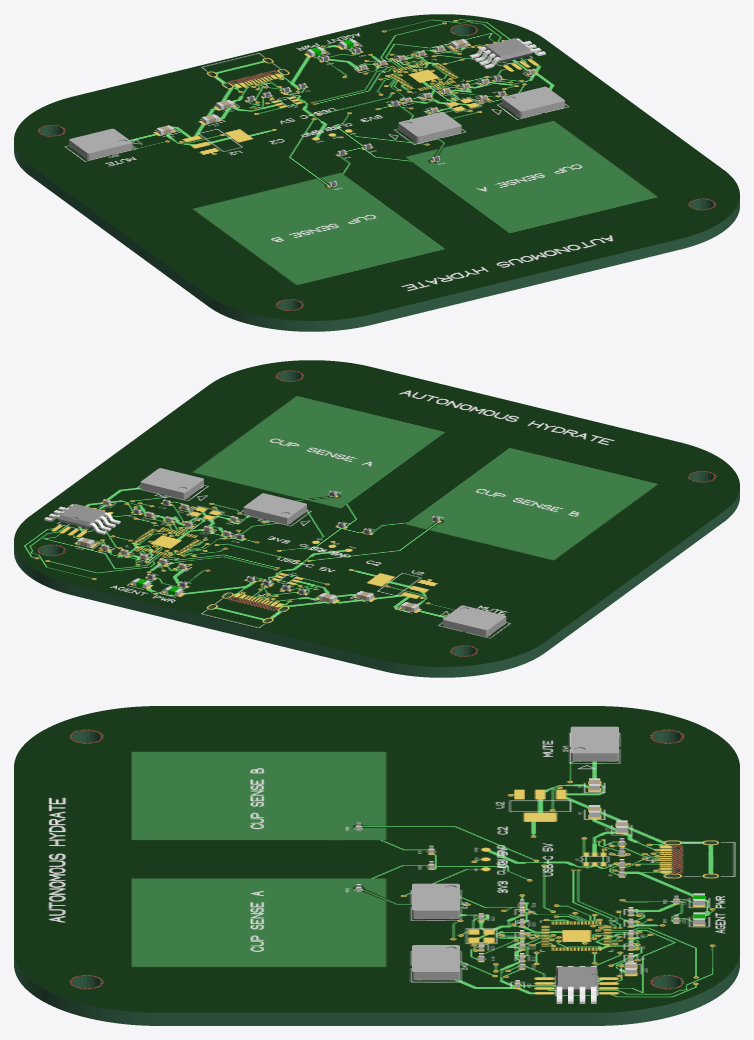
File: board.glb
The picture shows the model from 3 angles, top to bottom: view 1: azimuth 30°, elevation 25°; view 2: azimuth 150°, elevation 25°; view 3: azimuth 270°, elevation 25°; orthographic projection. The views are drawn at different scales.
Visible parts, largest first — view 1: Box0, SW2, SW3, SW1, U4; view 2: Box0, SW2, SW3, SW1, U4; view 3: Box0, SW1, SW2, SW3, U4.
Boxes of the visible parts, bbox=[...] form: Box0: bbox=[14, 14, 739, 331]; SW2: bbox=[501, 86, 564, 118]; SW3: bbox=[398, 112, 461, 143]; SW1: bbox=[69, 128, 132, 160]; U4: bbox=[469, 38, 545, 68]; Box0: bbox=[14, 360, 739, 677]; SW2: bbox=[140, 468, 203, 499]; SW3: bbox=[243, 493, 306, 524]; SW1: bbox=[443, 605, 506, 636]; U4: bbox=[44, 504, 120, 534]; Box0: bbox=[14, 706, 739, 1025]; SW1: bbox=[570, 726, 618, 761]; SW2: bbox=[412, 945, 459, 980]; SW3: bbox=[412, 883, 459, 918]; U4: bbox=[555, 966, 597, 1003].
Size of the model in its own units: 80 by 2.88 by 80.
10 materials, 2 textured.
